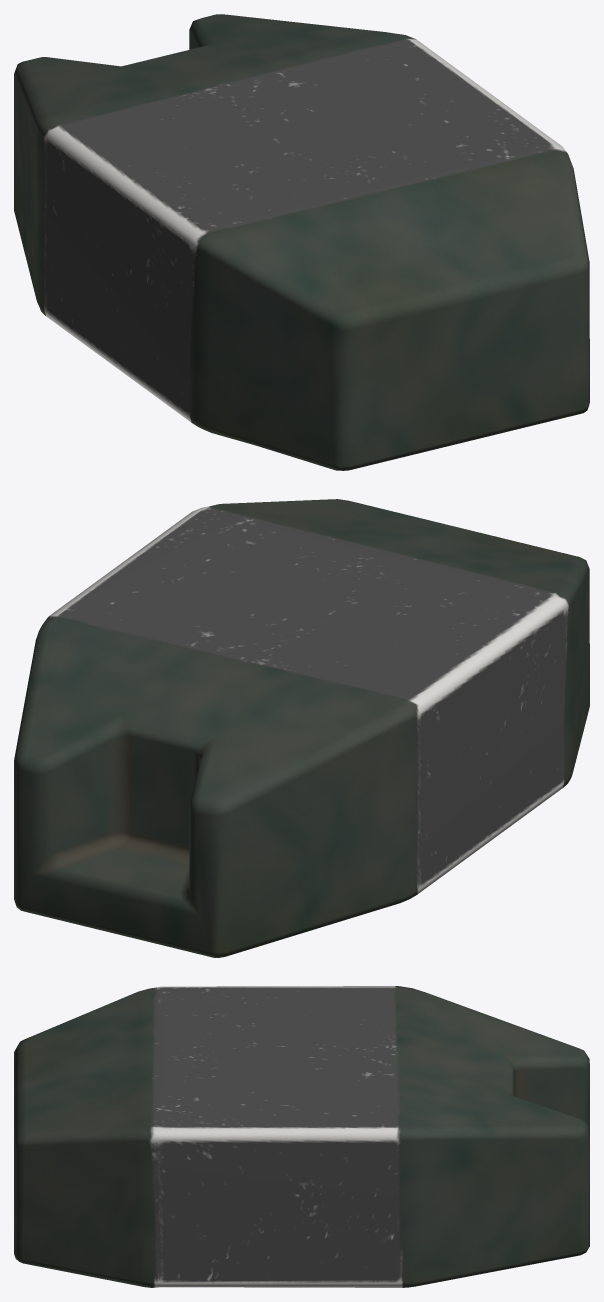
Rendered from AntiCraft_Core.fbx.
The picture shows the model from 3 angles, top to bottom: view 1: azimuth 30°, elevation 25°; view 2: azimuth 150°, elevation 25°; view 3: azimuth 270°, elevation 25°; orthographic projection. The views are drawn at different scales.
Parts seen in each view (by area): view 1: Core; view 2: Core; view 3: Core.
Part boxes in pixels (bbox=[...]): Core: bbox=[14, 14, 589, 470]; Core: bbox=[14, 499, 589, 957]; Core: bbox=[14, 986, 589, 1287].
Size of the model in its own units: 1.19 by 0.5933 by 1.94.
1 material, 1 textured.
